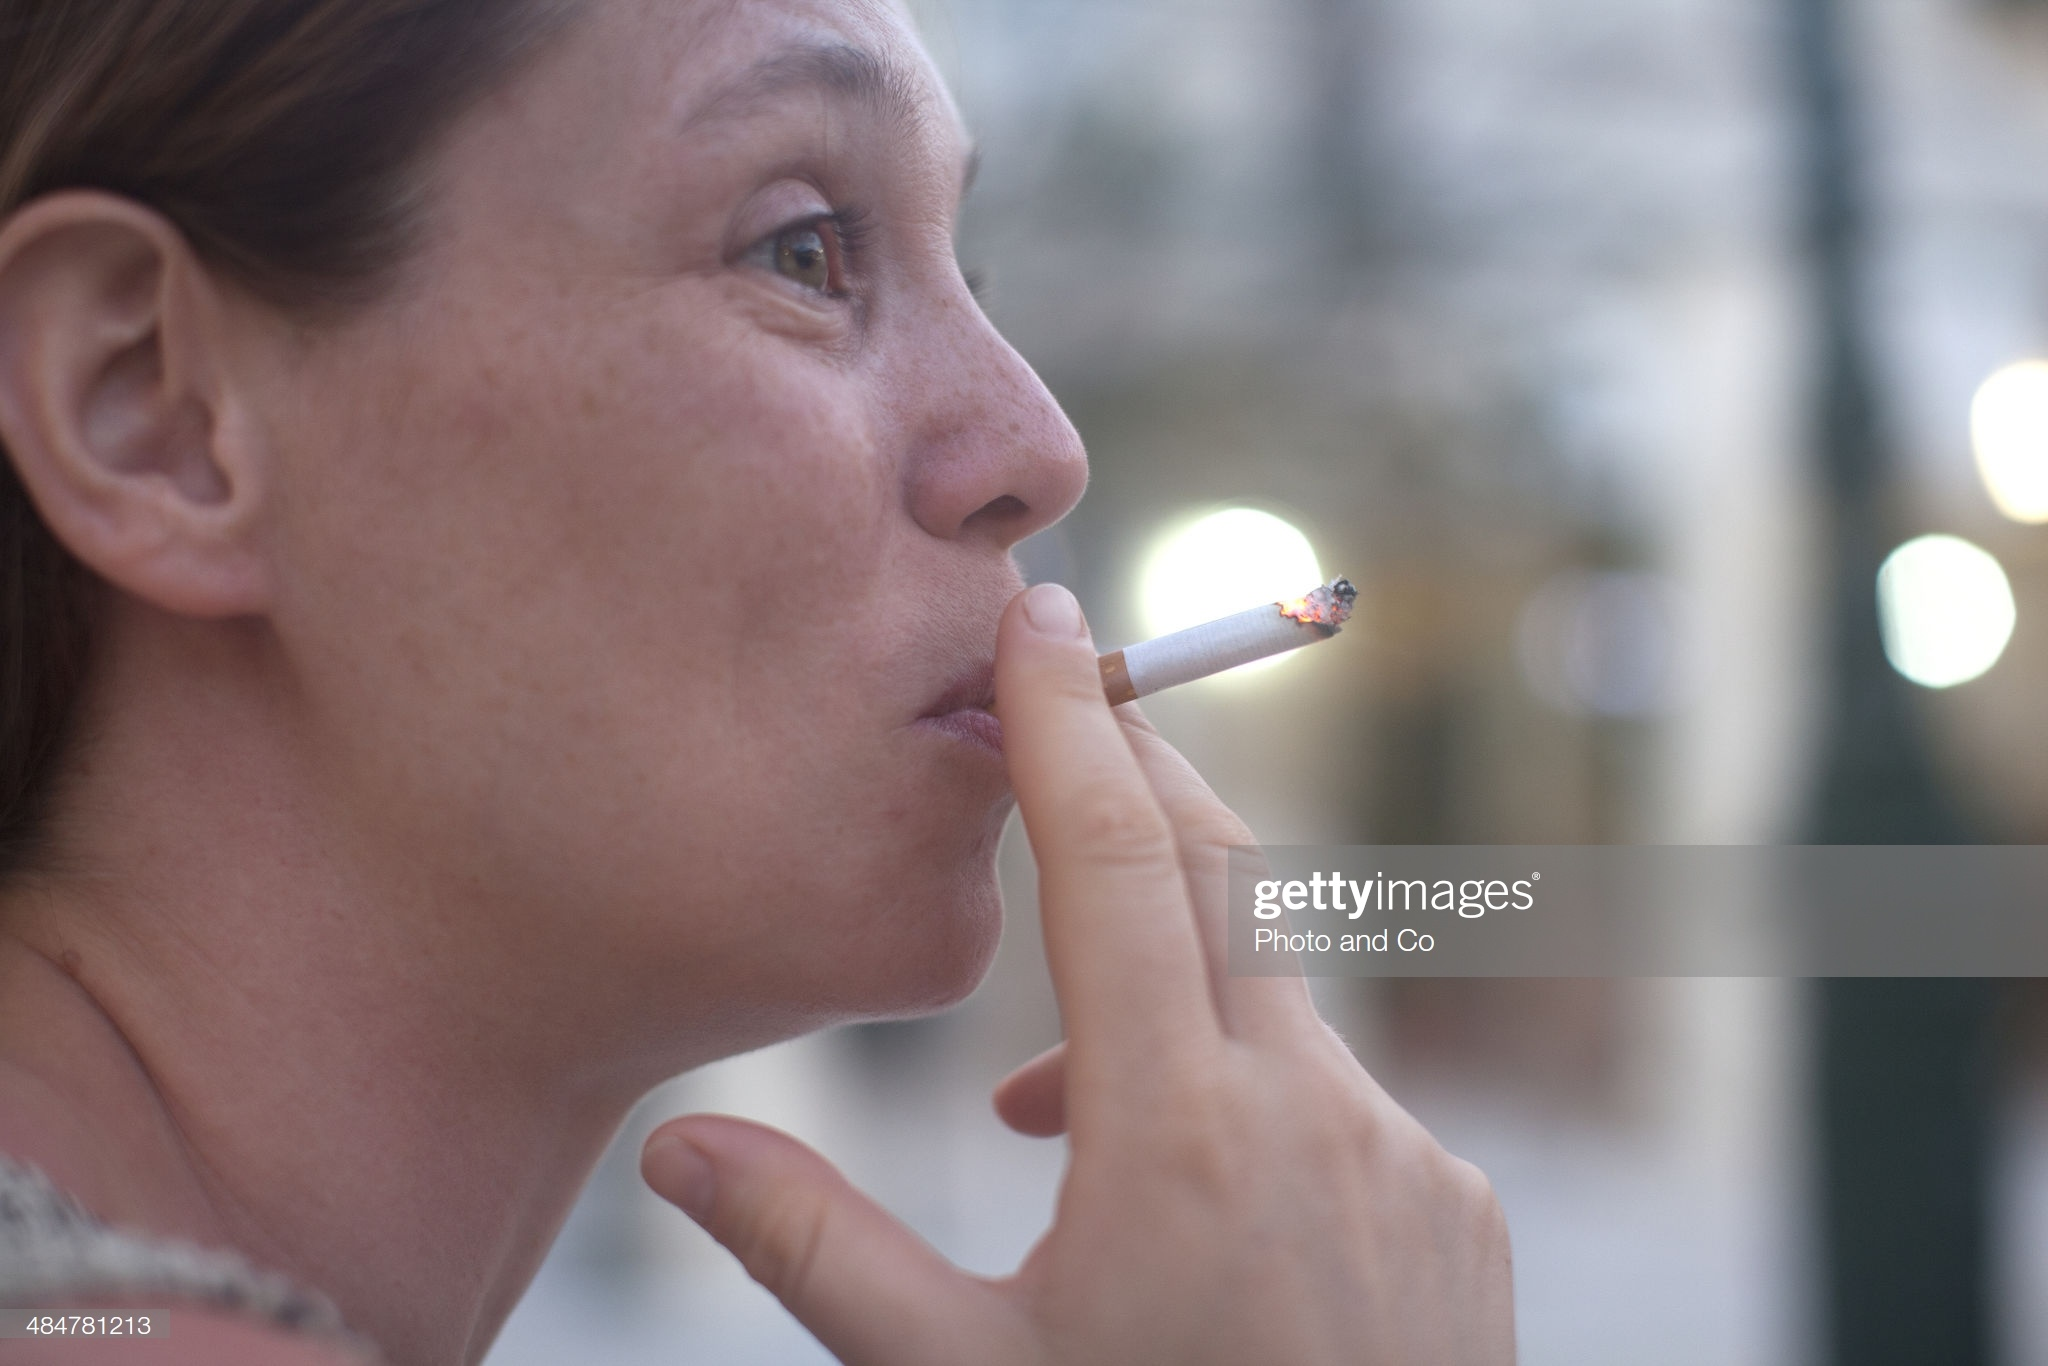sigaretta: (1070, 588, 1349, 698)
